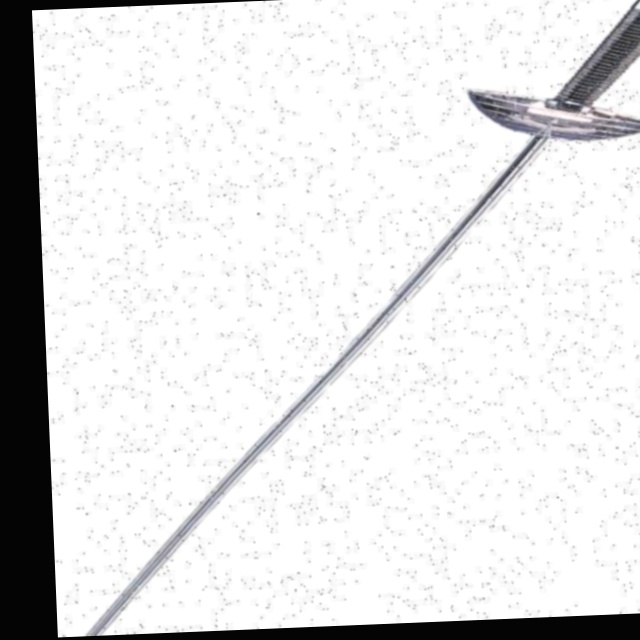Sharp-Object: (64, 31, 640, 629)
